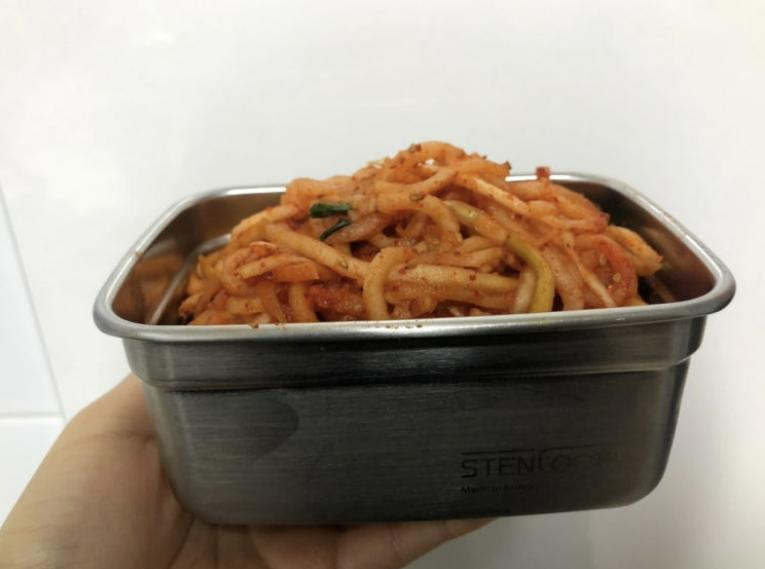Lunch Box: (94, 143, 734, 524)
